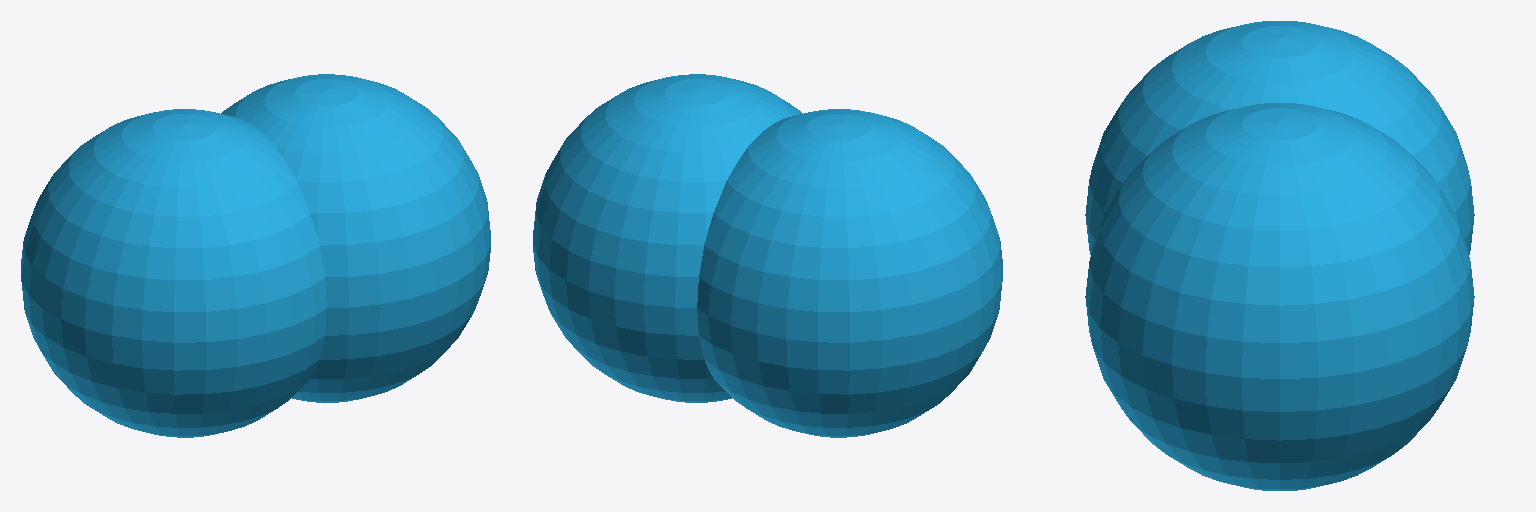
The robot description file, URDF, robot "torso":
<?xml version="1.0" ?>
<robot name="torso">
    <link name="baseLink">
        <visual>
            <geometry>
                <sphere radius="0.1"/>
            </geometry>
            <material>
                <color rgba="0.2 0.7 0.9 1"/>
            </material>
            <origin rpy="0 0 0" xyz="0.1 0 0.3"/>
        </visual>
    </link>
    <joint name="jointC" type="revolute">
        <axis xyz="1 0 0"/>
        <origin rpy="0 0 0" xyz="0.1 0 0.0"/>
        <parent link="baseLink"/>
        <child link="head"/>
        <limit effort="190" lower="-1.1" upper="0.4141" velocity="5.89"/>
    </joint>
    <link name="head">
        <visual>
            <geometry>
                <sphere radius="0.1"/>
            </geometry>
            <material>
                <color rgba="0.2 0.7 0.9 1"/>
            </material>
            <origin rpy="0 0 0" xyz="0.1 0 0.3"/>
        </visual>
    </link>
</robot>

--- What the picture shows (computed from the rendered views, not written in the file) ---
Views: 3 orthographic renders of the robot side by side, from view 1: azimuth 30°, elevation 25°; view 2: azimuth 150°, elevation 25°; view 3: azimuth 270°, elevation 25°.
Model torso with 2 links and 1 joints (1 revolute), rooted at baseLink, posed every joint at zero.
Links seen in each view (by area): view 1: baseLink, head; view 2: baseLink, head; view 3: head, baseLink.
Link boxes in pixels (x1,y1,x2,y2): baseLink: [21, 109, 326, 437]; head: [221, 74, 490, 402]; baseLink: [697, 109, 1002, 437]; head: [533, 74, 802, 402]; head: [1085, 103, 1474, 490]; baseLink: [1085, 21, 1474, 254].
Size in the robot's own frame: 0.3 by 0.2 by 0.2 metres.
Geometry: primitives only (box / cylinder / sphere), no mesh files.